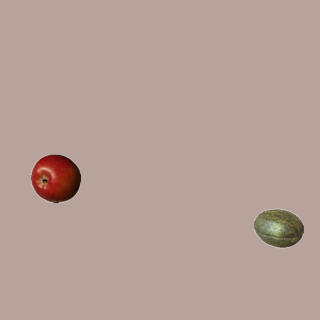Apple Braeburn: (30, 153, 80, 203)
Melon Piel de Sapo: (253, 203, 303, 253)
